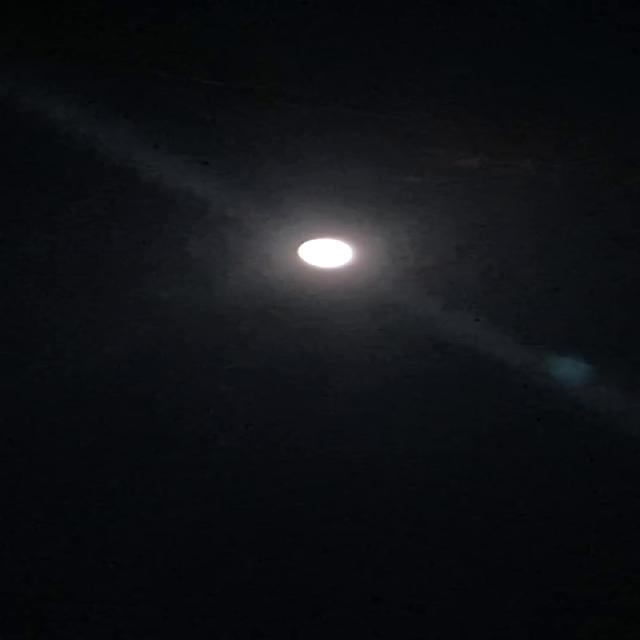moon: (237, 211, 364, 282)
